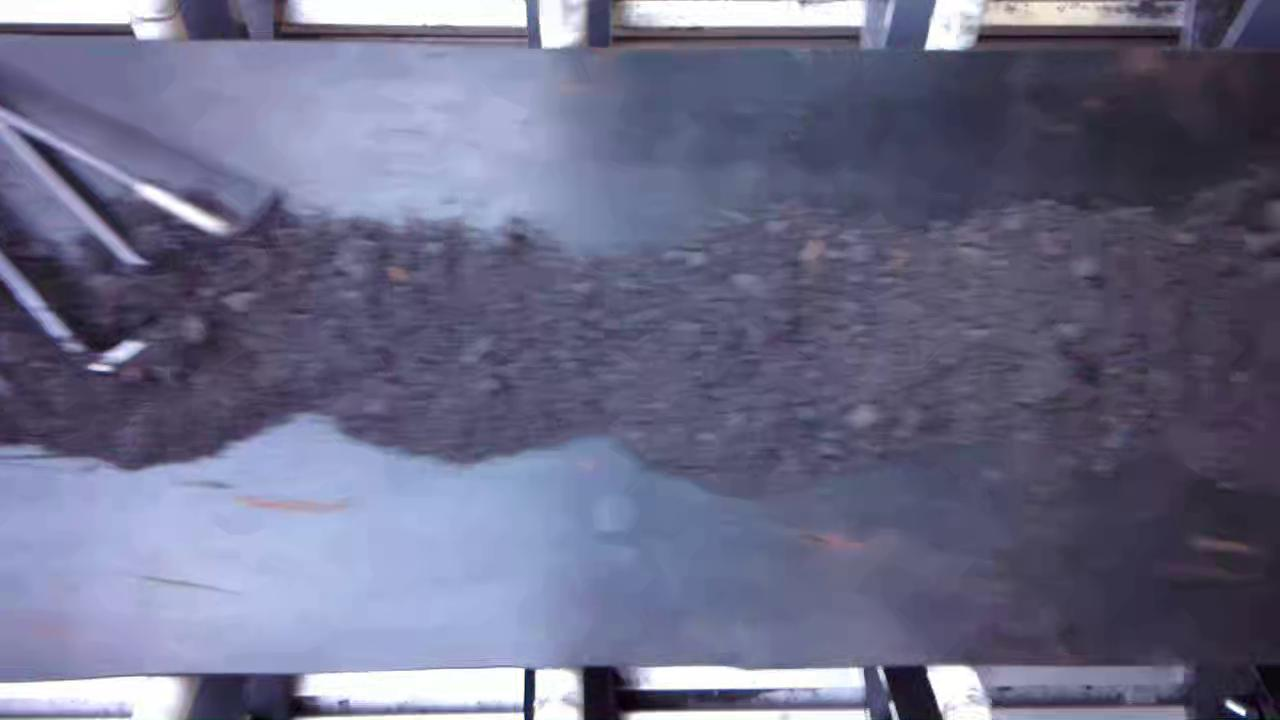conveyor: (5, 57, 1280, 659)
